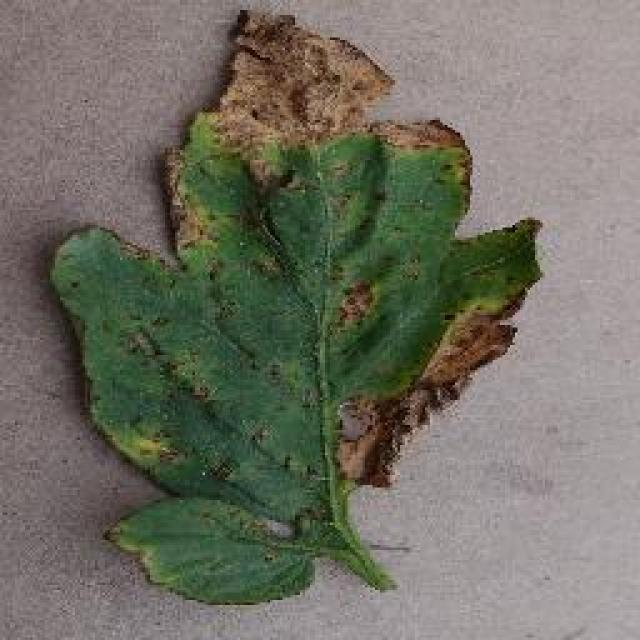Tomato bacterial spot leaf: (51, 14, 539, 606)
